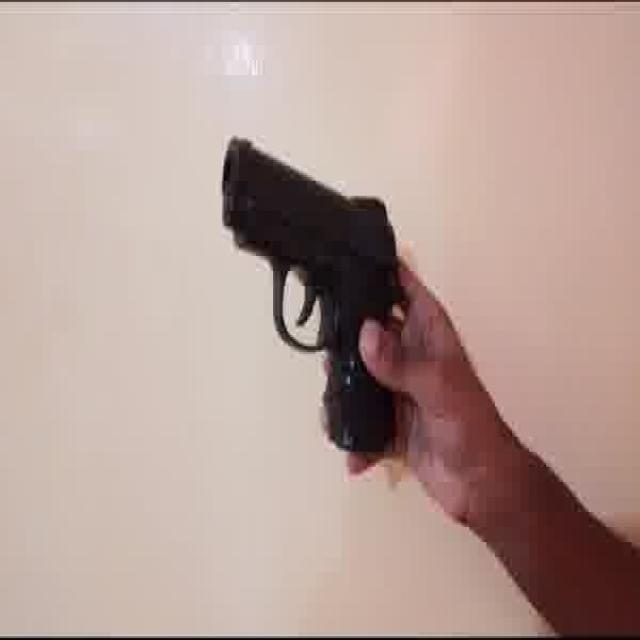weapon: (220, 132, 410, 458)
